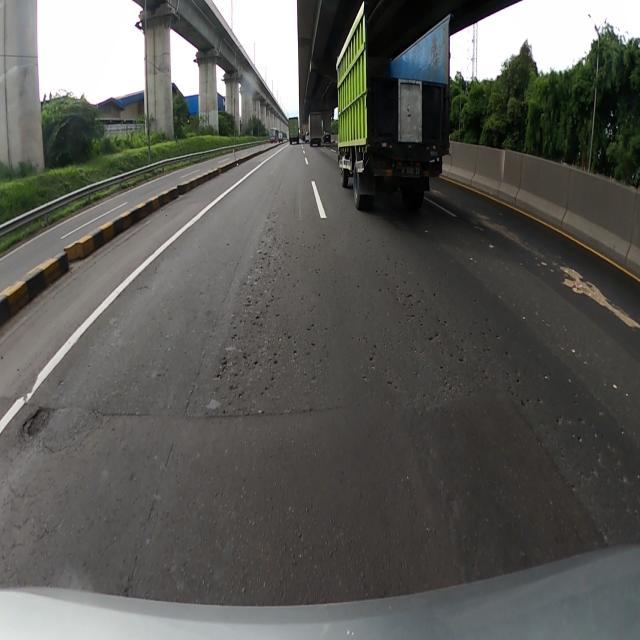Buraco: (16, 404, 58, 446)
